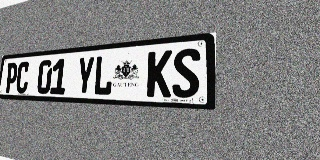0: (36, 60, 53, 94)
1: (50, 58, 67, 94)
C: (15, 61, 30, 93)
K: (146, 50, 172, 97)
L: (93, 55, 114, 96)
P: (4, 62, 18, 93)
S: (172, 48, 201, 98)
Y: (75, 56, 95, 95)
